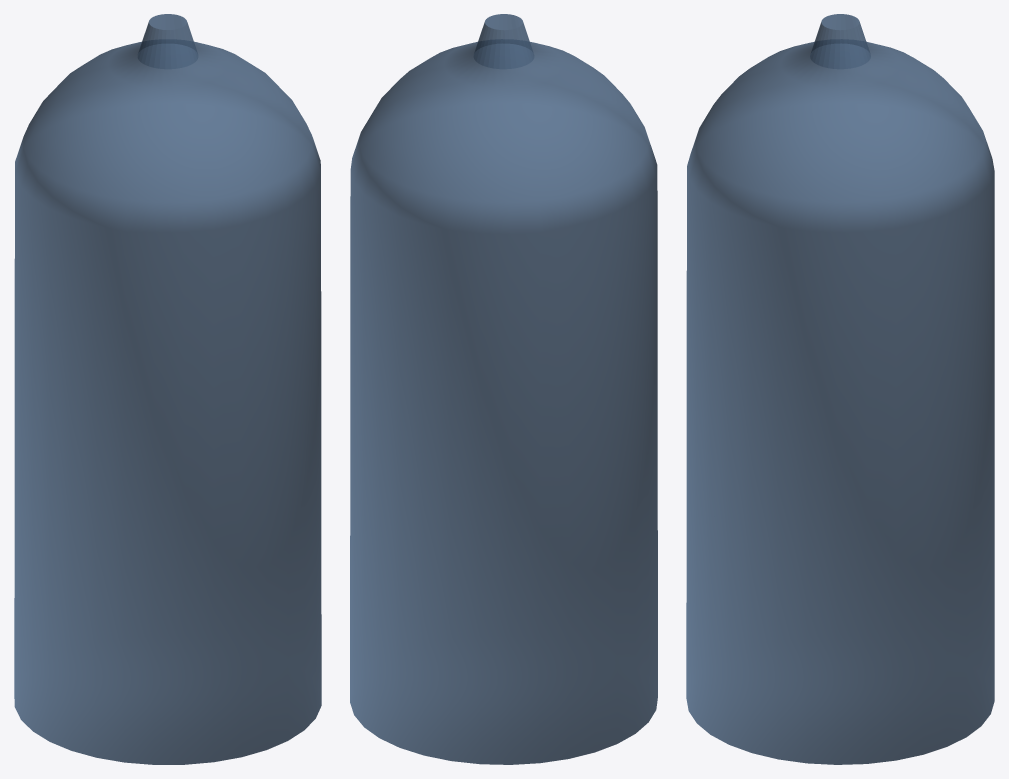
The model's file is botel.fbx.
The picture shows the model from 3 angles, left to right: view 1: azimuth 30°, elevation 25°; view 2: azimuth 150°, elevation 25°; view 3: azimuth 270°, elevation 25°; orthographic projection.
Parts seen in each view (by area): view 1: botel; view 2: botel; view 3: botel.
Boxes of the visible parts, <box> form: botel: <box>14,14,321,764</box>; botel: <box>350,14,657,764</box>; botel: <box>686,14,994,764</box>.
Bounding box in the file's own units: 1.2 × 2.9 × 1.2.
